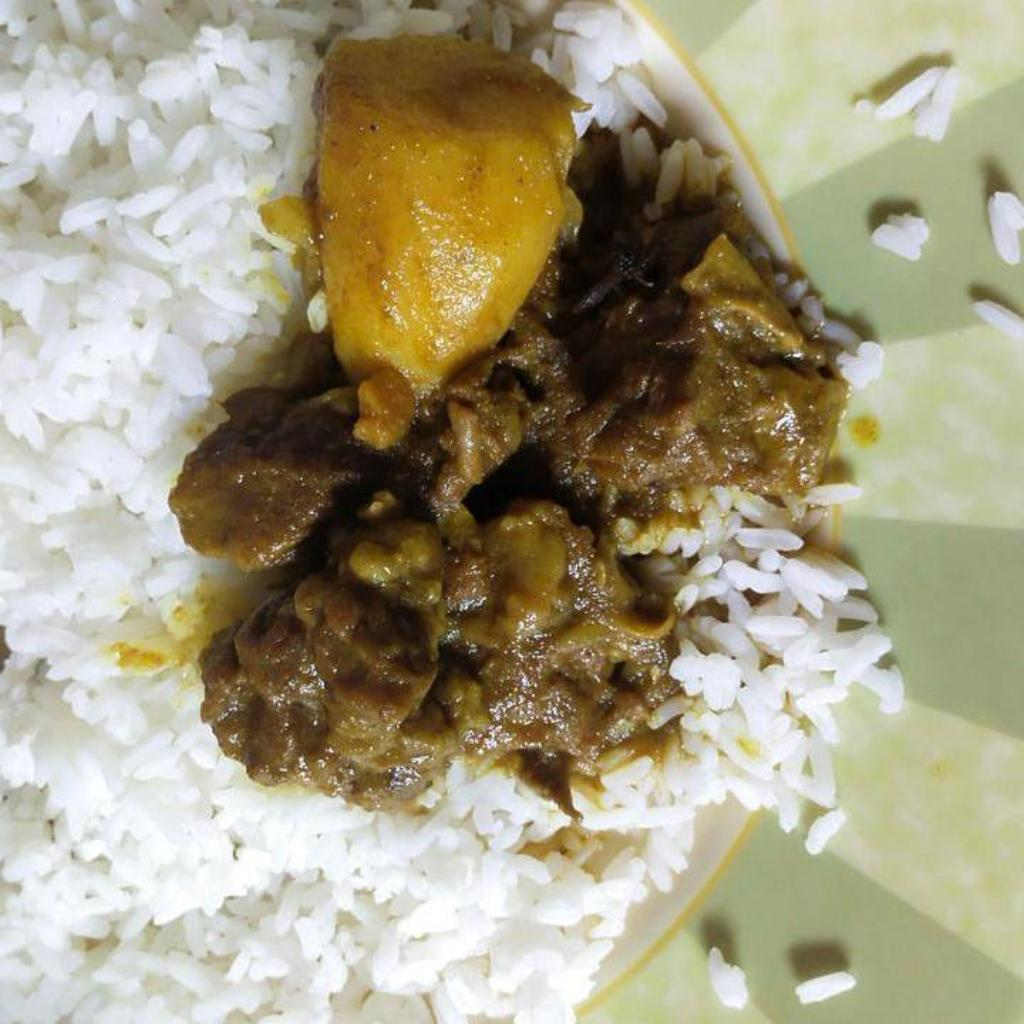beef: (176, 115, 865, 792)
potato: (313, 38, 570, 397)
rice: (0, 0, 896, 1023)
